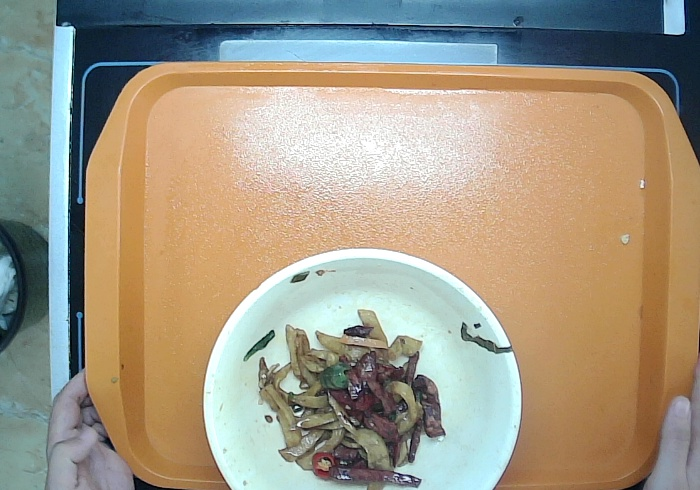ZNLD-Da_Tang_Wan: (196, 241, 526, 490)
